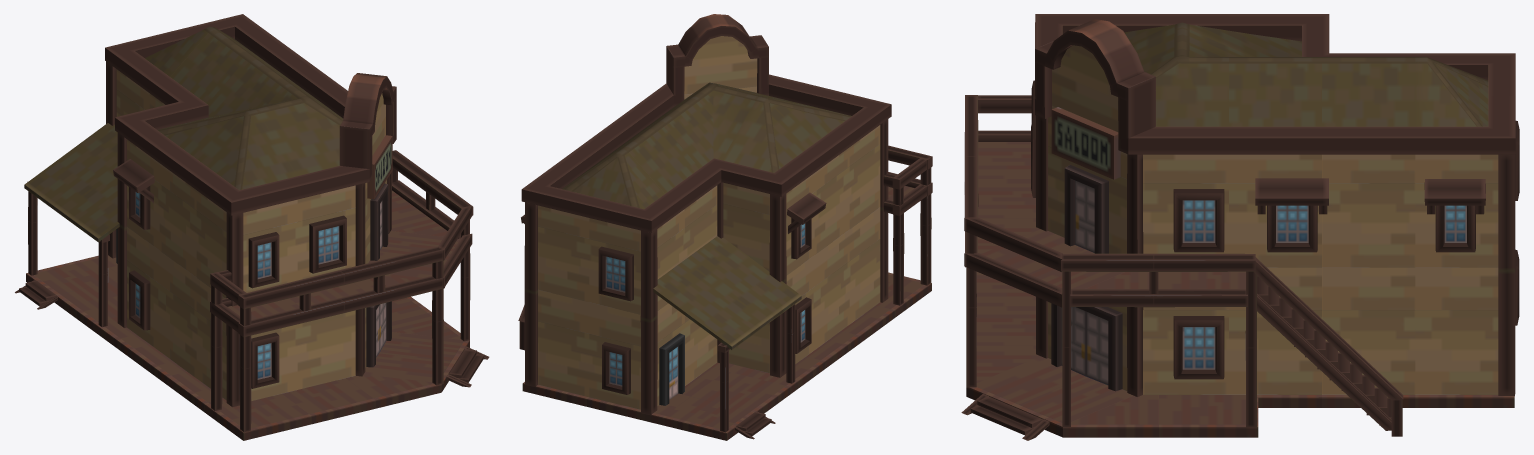
File: house_v4_01_ncl1_2.fbx
The picture shows the model from 3 angles, left to right: view 1: azimuth 30°, elevation 25°; view 2: azimuth 150°, elevation 25°; view 3: azimuth 270°, elevation 25°; orthographic projection. The views are drawn at different scales.
Parts seen in each view (by area): view 1: house_v4_01; view 2: house_v4_01; view 3: house_v4_01.
Part boxes in pixels (x1,y1,x2,y2): house_v4_01: [15, 14, 489, 440]; house_v4_01: [518, 14, 932, 440]; house_v4_01: [961, 14, 1519, 440].
Bounding box in the file's own units: 906 × 842 × 1197.
